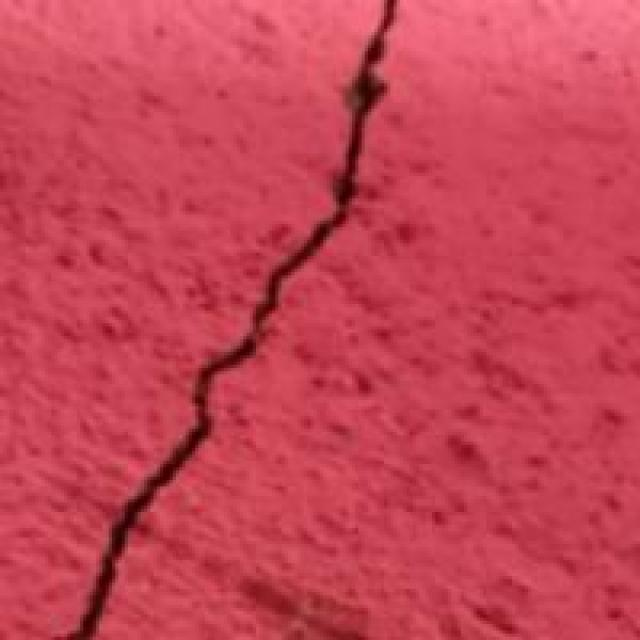crack: (35, 0, 464, 637)
